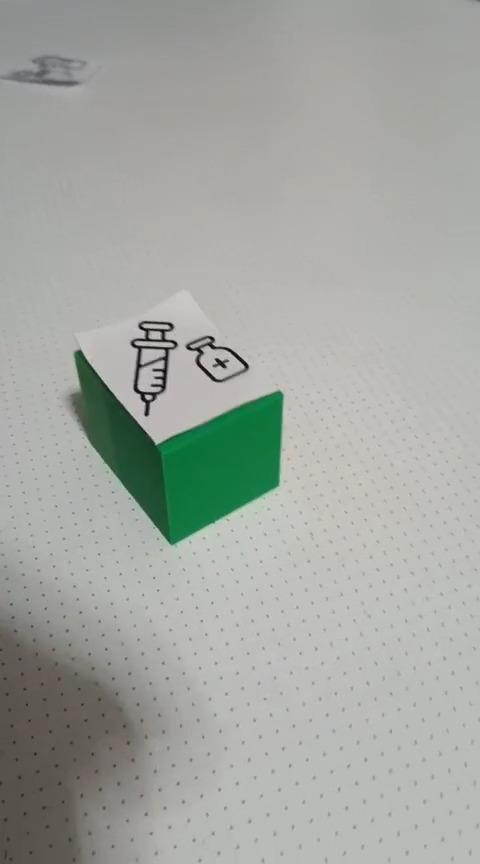antiseptic cream: (71, 287, 285, 545)
